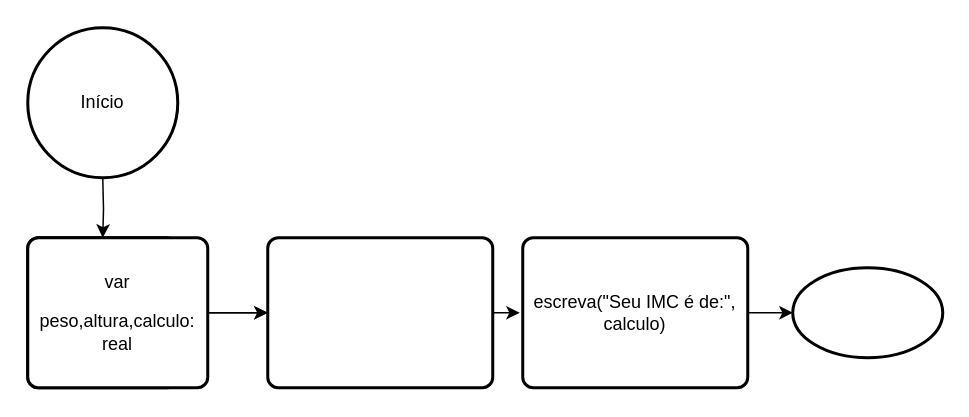
This 969x417 diagram has some shape labels left out. Here are the shapes that lost their labels. From the top down, the centre of each, then its label:
the point at 380,312: calculo<- peso / (altura * altura)
the point at 867,312: FimAlgoritmo
